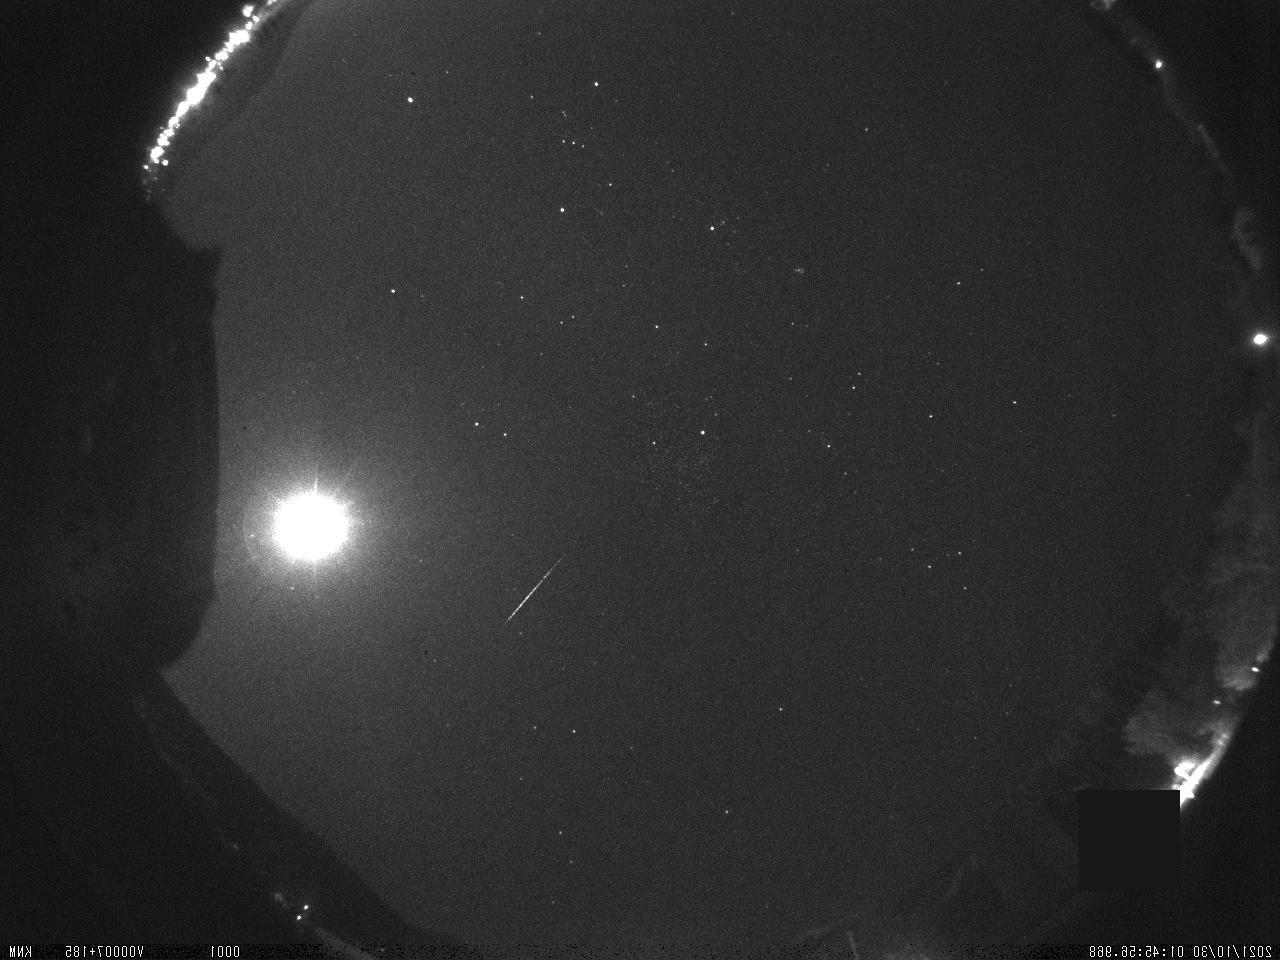meteor: (461, 520, 587, 650)
